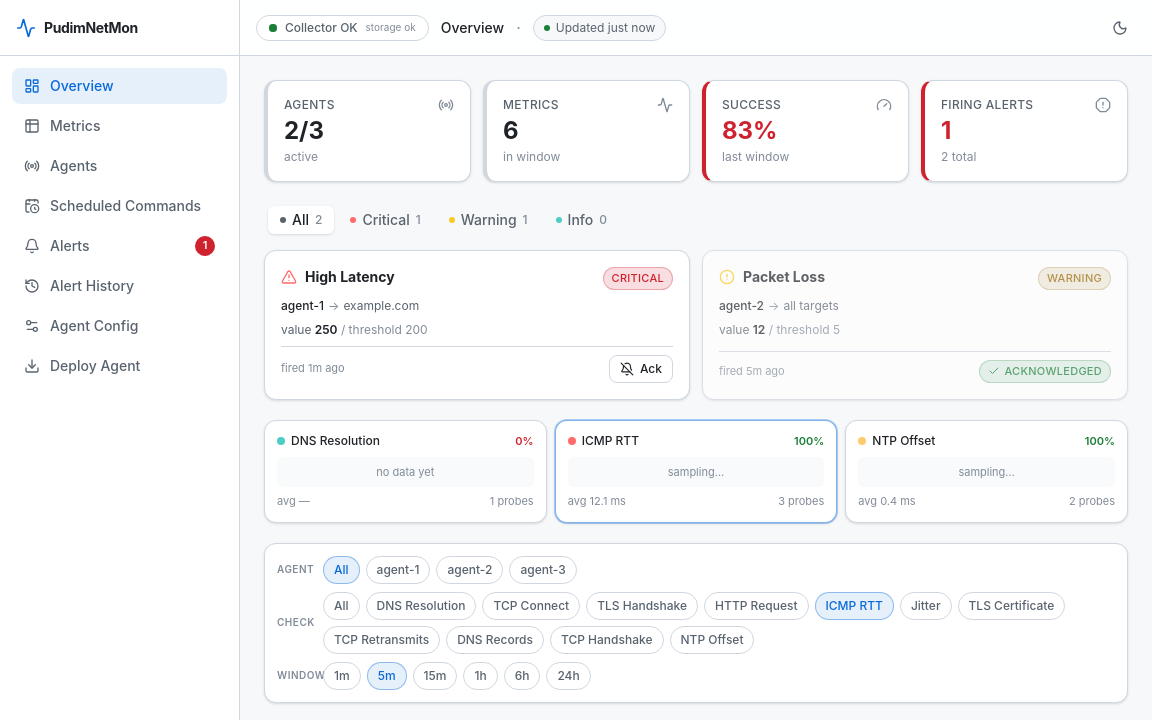
Test: PudimNetMon dashboard › navigates to the metrics explorer and renders raw rows
The width and height of the screenshot is (1152, 720).
Click the button "Metrics".
click(120, 126)  # box [12,108,227,144]
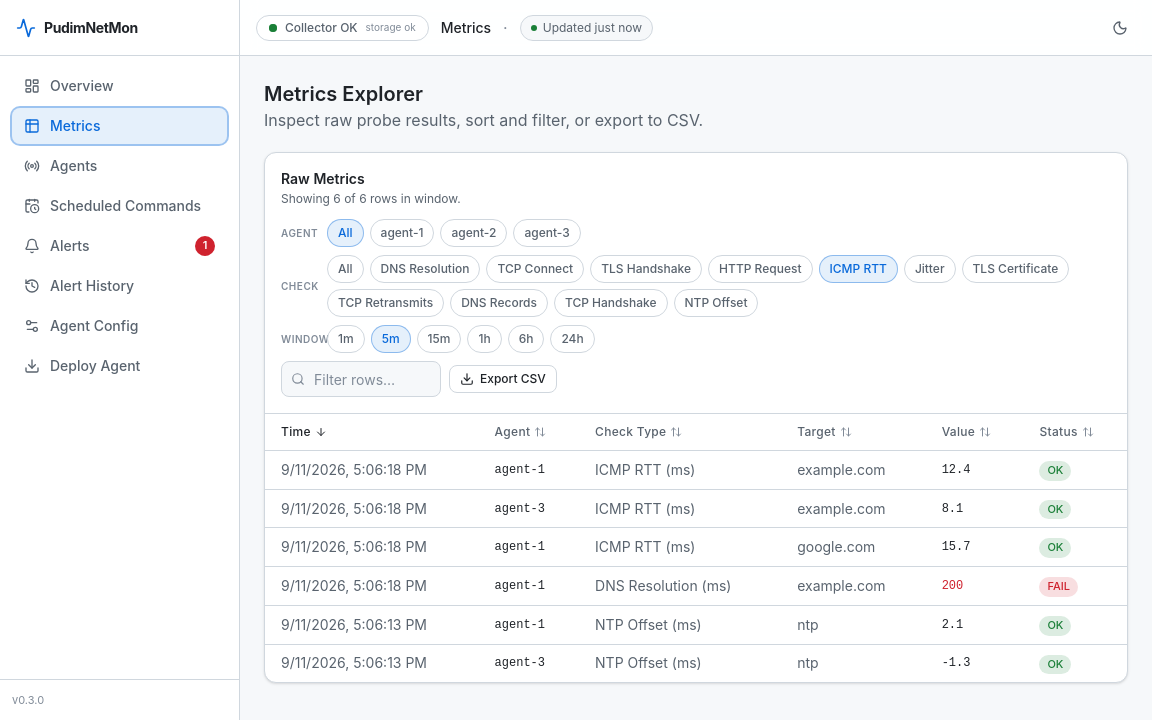
Expected: the button "agent-1" is shown, [370,219,434,247]
Now the heading "Metrics Explorer" is shown, box [264,82,423,106]
Now the text "OK" next to "12.4" is shown, box [1047,463,1063,477]
